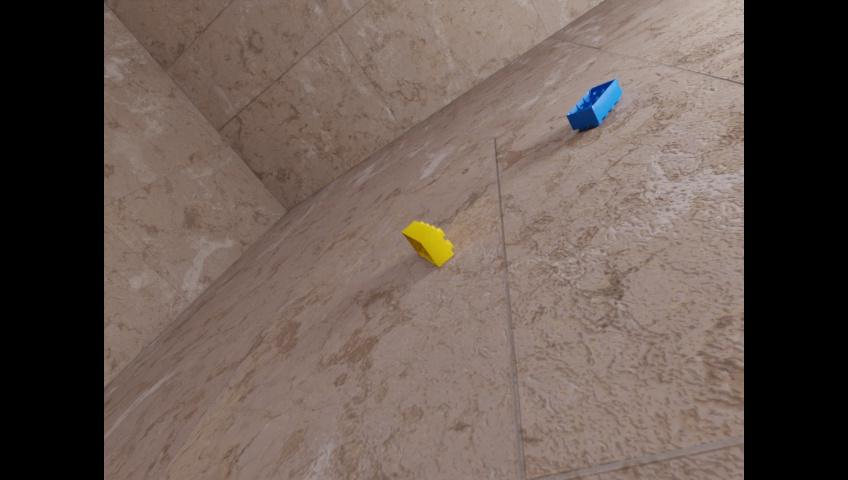4x2_blue: (566, 78, 621, 130)
4x2_yellow: (401, 220, 453, 266)
